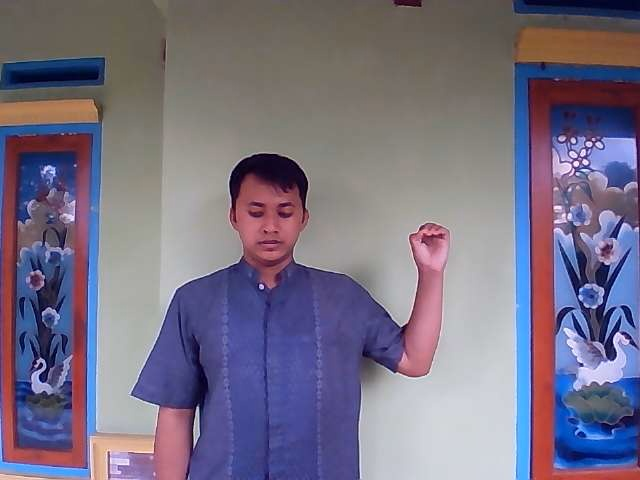O: (407, 219, 451, 270)
